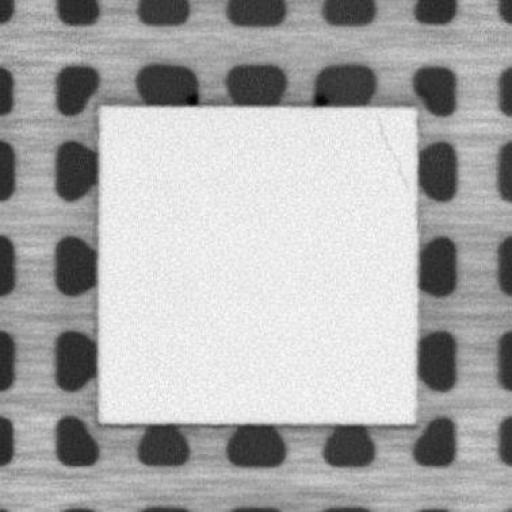DIE_CRACK: (372, 111, 410, 193)
